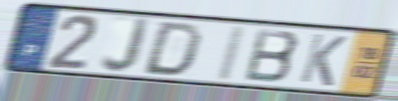2: (46, 12, 102, 72)
B: (242, 27, 302, 85)
D: (139, 20, 205, 78)
I: (213, 23, 249, 83)
J: (98, 15, 153, 76)
K: (297, 31, 349, 88)
